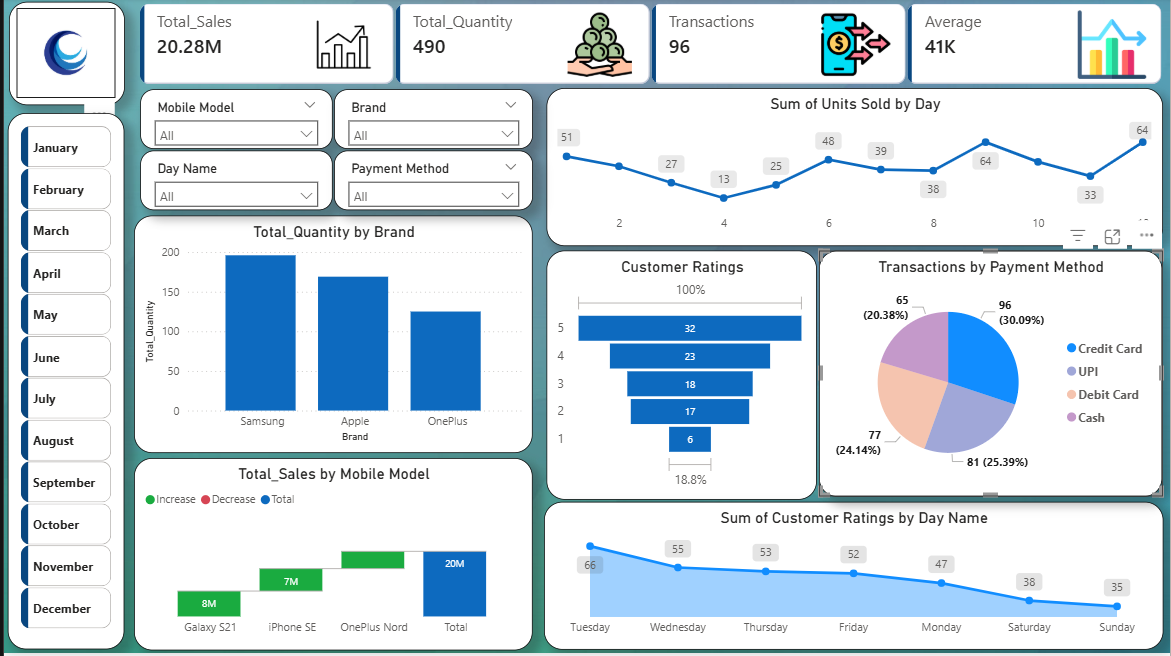

What the dashboard file says about the page in this screenshot:
{"tool":"powerbi","page":{"name":"Page 1","canvas":[1280,720],"ordinal":0},"visuals":[{"type":"shape","box":[5,3.8,127.5,113.8],"z":0},{"type":"image","box":[13.8,11.2,108.8,98.8],"z":1000},{"type":"shape","box":[4.7,126.6,128.1,589.1],"z":2000},{"type":"advancedSlicerVisual","fields":{"Values":["Sheet1.Date.Variation.Date Hierarchy.Month"]},"box":[14.1,135.9,109.4,571.9],"z":3000},{"type":"cardVisual","fields":{"Data":["Mobile_Sales_Data.Total_Sales","Mobile_Sales_Data.Total_Quantity","Mobile_Sales_Data.Transactions","Mobile_Sales_Data.Average"]},"box":[142.7,0,1137.6,100.2],"z":4000},{"type":"clusteredColumnChart","fields":{"Y":["Mobile_Sales_Data.Total_Quantity"],"Category":["Mobile_Sales_Data.Brand"]},"box":[142.2,239.1,437.5,260.9],"z":5000},{"type":"lineChart","fields":{"Y":["Sum(Mobile_Sales_Data.Units Sold)"],"Category":["Mobile_Sales_Data.Date.Variation.Date Hierarchy.Month","Mobile_Sales_Data.Date.Variation.Date Hierarchy.Day"]},"box":[595.3,98.4,676.6,173.4],"z":6000},{"type":"waterfallChart","fields":{"Category":["Mobile_Sales_Data.Mobile Model"],"Y":["Mobile_Sales_Data.Total_Sales"]},"box":[142.2,504.7,437.5,210.9],"z":7000},{"type":"pieChart","fields":{"Y":["Mobile_Sales_Data.Transactions"],"Category":["Mobile_Sales_Data.Payment Method"]},"box":[895.3,276.6,376.6,270.3],"z":8000},{"type":"funnel","title":"Customer Ratings","fields":{"Category":["Mobile_Sales_Data.Customer Ratings"],"Y":["CountNonNull(Mobile_Sales_Data.Customer Ratings)"]},"box":[595.3,276.6,296.9,273.4],"z":9000},{"type":"areaChart","fields":{"Category":["Mobile_Sales_Data.Day Name"],"Y":["Sum(Mobile_Sales_Data.Customer Ratings)"]},"box":[592.2,553.1,679.7,162.5],"z":10000},{"type":"slicer","fields":{"Values":["Mobile_Sales_Data.Mobile Model"]},"box":[150,100,210.9,65.6],"z":11000},{"type":"slicer","fields":{"Values":["Mobile_Sales_Data.Brand"]},"box":[362.5,100,218.8,65.6],"z":12000},{"type":"slicer","fields":{"Values":["Mobile_Sales_Data.Day Name"]},"box":[150,167.2,210.9,65.6],"z":13000},{"type":"slicer","fields":{"Values":["Mobile_Sales_Data.Payment Method"]},"box":[362.5,167.2,218.8,65.6],"z":14000}]}

Visuals, with their boxes in screenshot pixels (x1, y1, x2, y2), scaled from the page's 1280x720 canvas onto the 1171x656 screenshot:
shape: 5/3/121/107
image: 13/10/112/100
shape: 4/115/121/652
advancedSlicerVisual - Sheet1.Date.Variation.Date Hierarchy.Month: 13/124/113/645
cardVisual - Mobile_Sales_Data.Total_Sales x Mobile_Sales_Data.Total_Quantity: 131/0/1170/91
clusteredColumnChart - Mobile_Sales_Data.Total_Quantity x Mobile_Sales_Data.Brand: 130/218/530/456
lineChart - Sum(Mobile_Sales_Data.Units Sold) x Mobile_Sales_Data.Date.Variation.Date Hierarchy.Month: 545/90/1164/248
waterfallChart - Mobile_Sales_Data.Mobile Model x Mobile_Sales_Data.Total_Sales: 130/460/530/652
pieChart - Mobile_Sales_Data.Transactions x Mobile_Sales_Data.Payment Method: 819/252/1164/498
"Customer Ratings" funnel: 545/252/816/501
areaChart - Mobile_Sales_Data.Day Name x Sum(Mobile_Sales_Data.Customer Ratings): 542/504/1164/652
slicer - Mobile_Sales_Data.Mobile Model: 137/91/330/151
slicer - Mobile_Sales_Data.Brand: 332/91/532/151
slicer - Mobile_Sales_Data.Day Name: 137/152/330/212
slicer - Mobile_Sales_Data.Payment Method: 332/152/532/212
